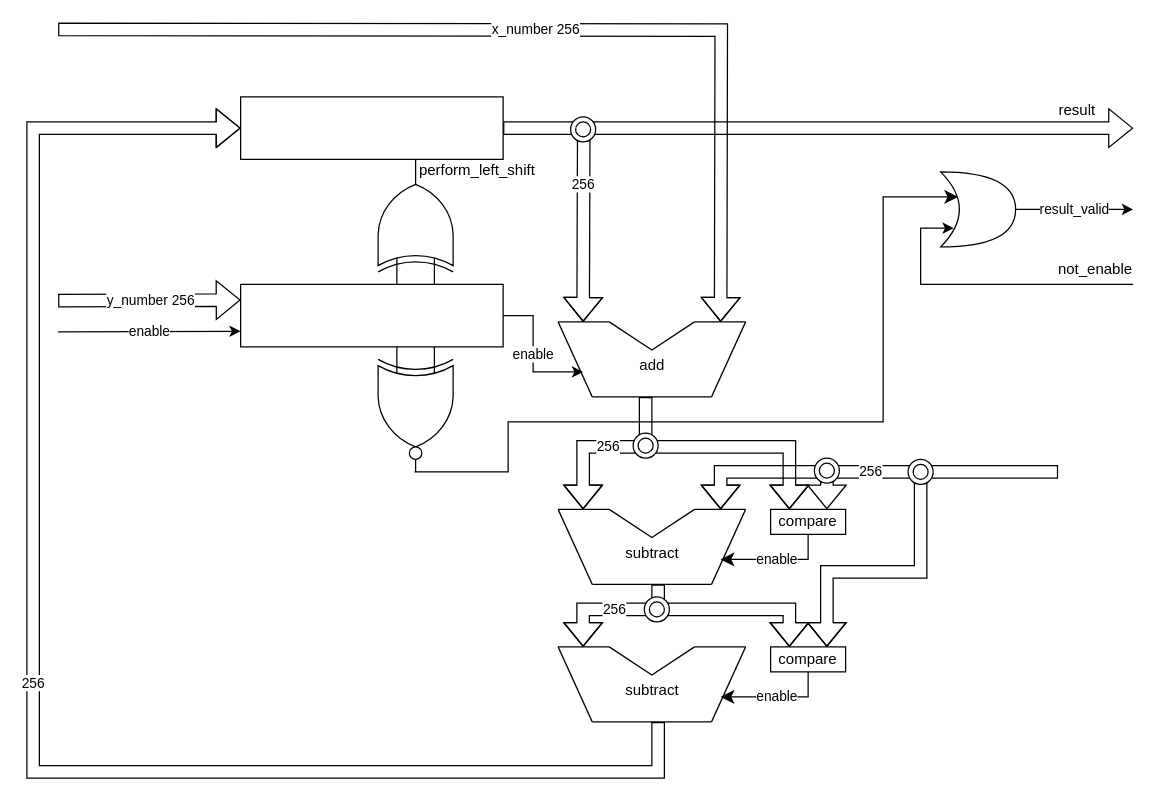
Some shapes in this 1165 by 800 pixel diagram are drawn without their labels. The centre of each missing label's shape, as x and y in pixels:
"result_register" belongs at pixel 371 127.
"y_shift_reg" belongs at pixel 371 315.
